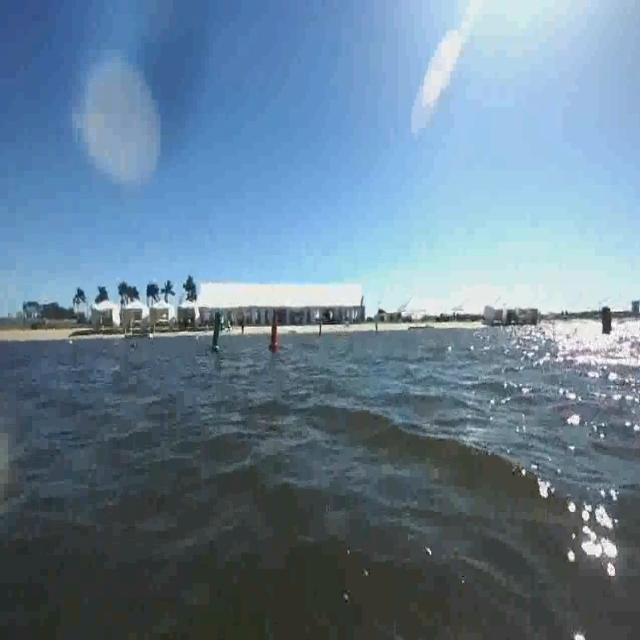green-column-buoy: (210, 308, 225, 352)
red-column-buoy: (269, 314, 282, 355)
